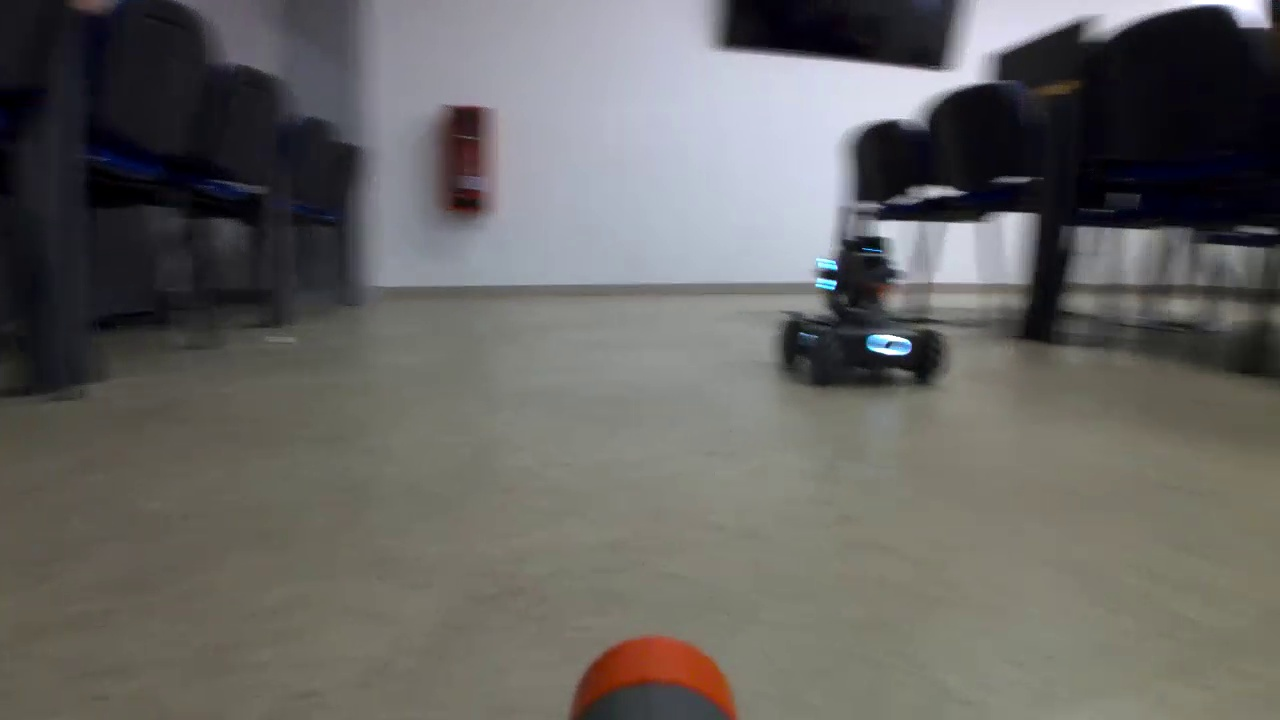robot: (783, 236, 943, 388)
